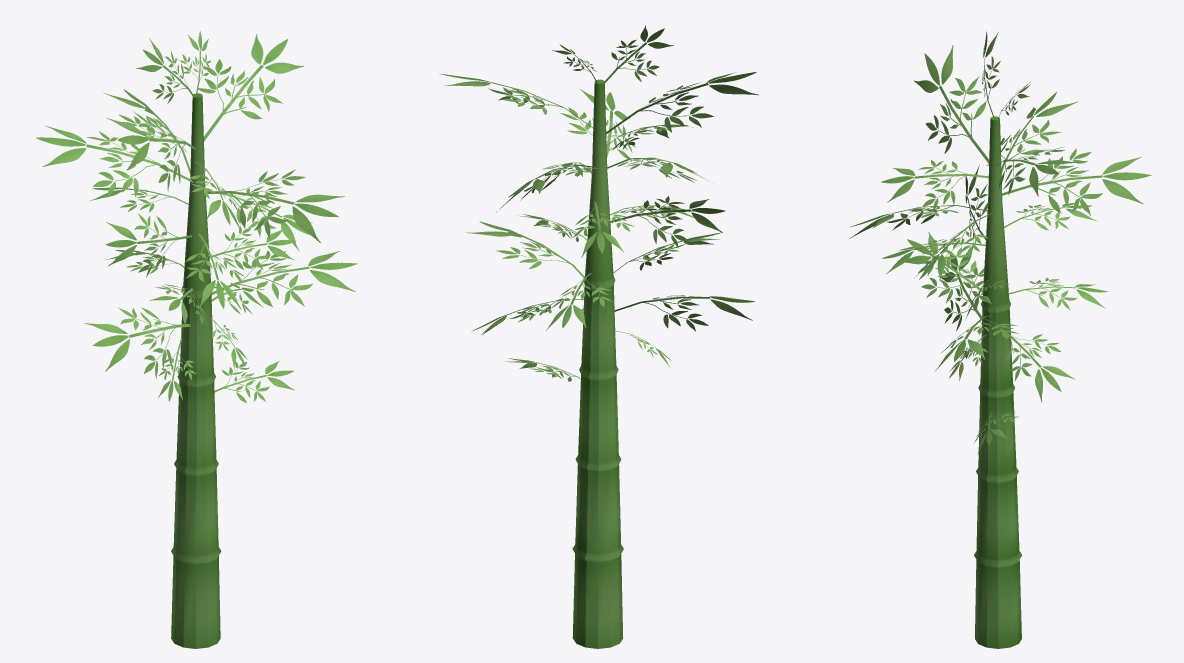
The model's file is take.fbx.
3 renders of one model, left to right at view 1: azimuth 30°, elevation 25°; view 2: azimuth 150°, elevation 25°; view 3: azimuth 270°, elevation 25°, orthographic. The views are drawn at different scales.
Visible parts, largest first — view 1: pasted__pasted__pPlane2; view 2: pasted__pasted__pPlane2; view 3: pasted__pasted__pPlane2.
Part boxes in pixels (x1,y1,x2,y2): pasted__pasted__pPlane2: (36, 31, 357, 648); pasted__pasted__pPlane2: (439, 25, 758, 648); pasted__pasted__pPlane2: (849, 31, 1151, 648).
Size of the model in its own units: 23.47 by 43.1 by 22.66.
